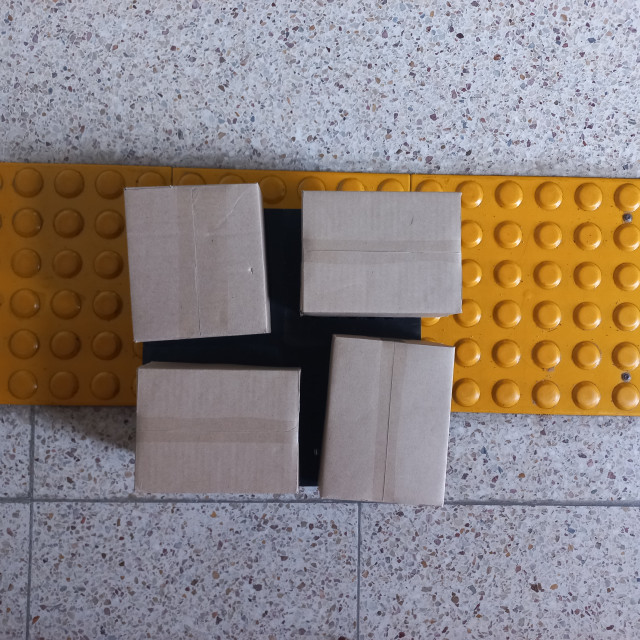box: (123, 179, 272, 346), (316, 333, 457, 507), (131, 359, 302, 502), (299, 188, 463, 318)
